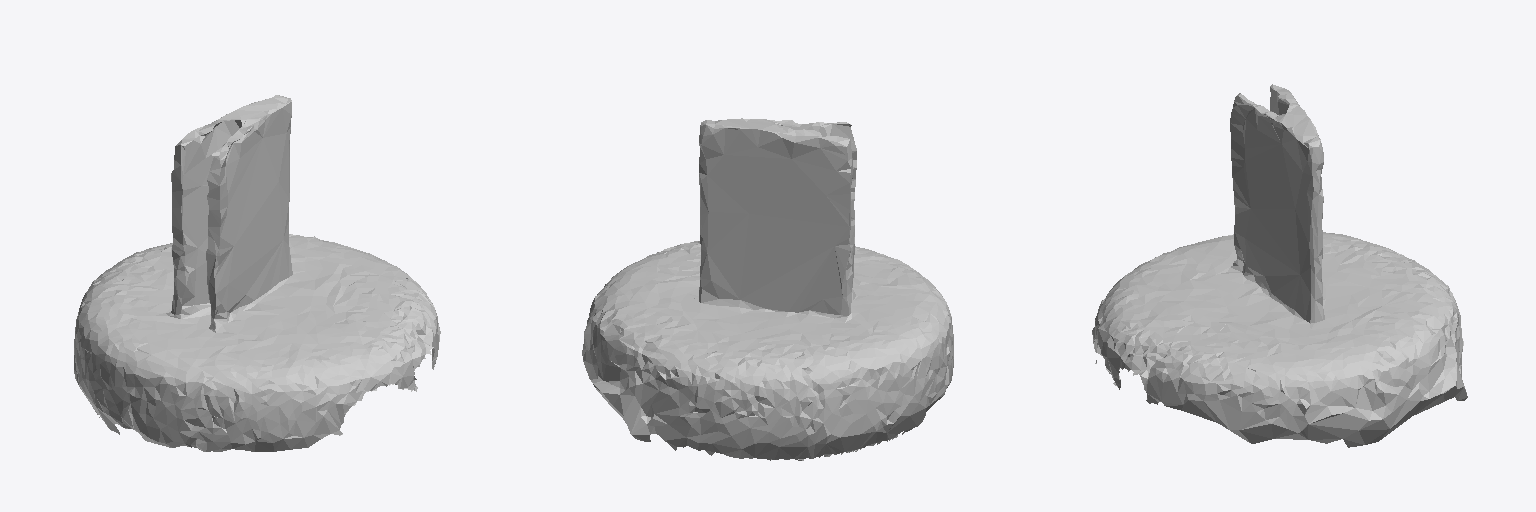
The model's file is ucheba.obj.
3 renders of one model, left to right at view 1: azimuth 30°, elevation 25°; view 2: azimuth 150°, elevation 25°; view 3: azimuth 270°, elevation 25°, orthographic.
Visible parts, largest first — view 1: uchebnik; view 2: uchebnik; view 3: uchebnik.
Part boxes in pixels (left/top/right/bottom): uchebnik: left=74, top=95, right=440, bottom=451; uchebnik: left=582, top=118, right=953, bottom=460; uchebnik: left=1092, top=84, right=1467, bottom=447.
Bounding box in the file's own units: 1.29 × 1.06 × 1.3.